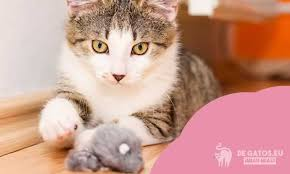Gato: (59, 1, 205, 130)
